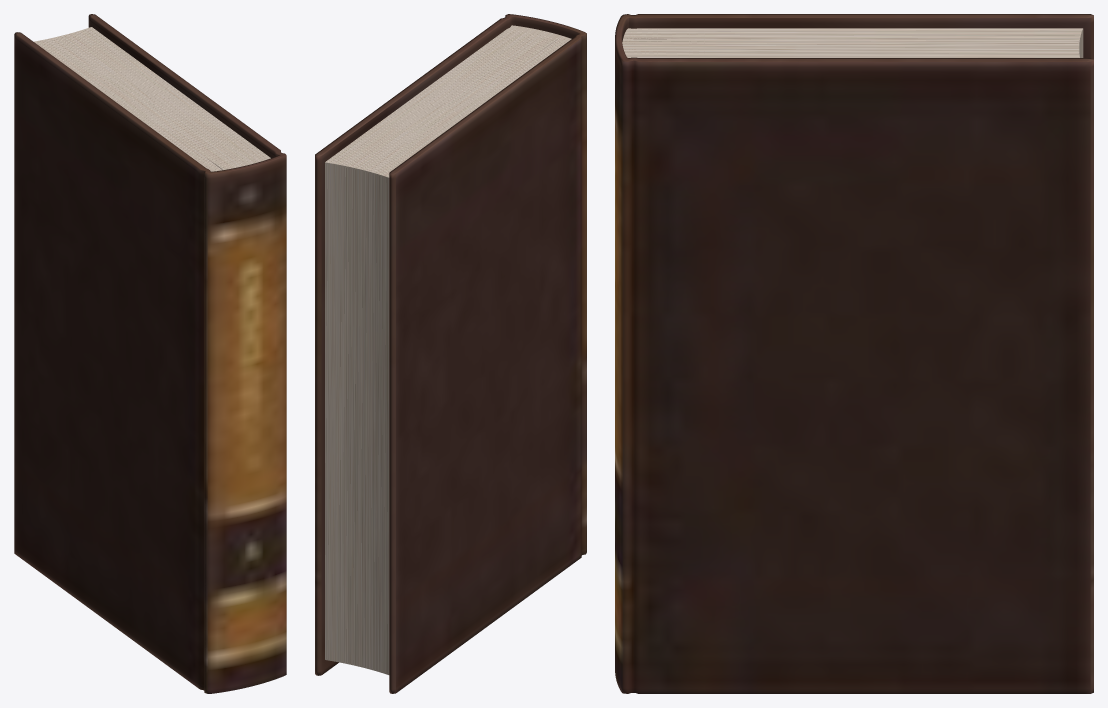
File: book_volume.glb
3 renders of one model, left to right at view 1: azimuth 30°, elevation 25°; view 2: azimuth 150°, elevation 25°; view 3: azimuth 270°, elevation 25°, orthographic. The views are drawn at different scales.
Visible parts, largest first — view 1: book_encyclopedia_set_01_book01; view 2: book_encyclopedia_set_01_book01; view 3: book_encyclopedia_set_01_book01.
Part boxes in pixels (left/top/right/bottom): book_encyclopedia_set_01_book01: left=14, top=14, right=286, bottom=693; book_encyclopedia_set_01_book01: left=315, top=14, right=586, bottom=693; book_encyclopedia_set_01_book01: left=615, top=14, right=1093, bottom=693.
Bounding box in the file's own units: 0.0387 × 0.2374 × 0.1631.
2 materials, 2 textured.
